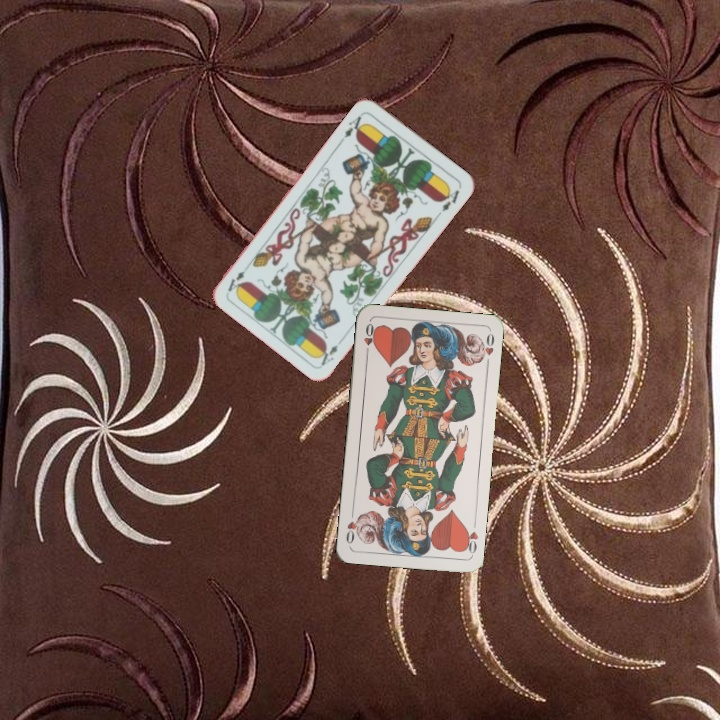EA: (336, 109, 368, 144), (315, 333, 347, 368)
HO: (360, 319, 378, 359), (460, 524, 481, 558)
